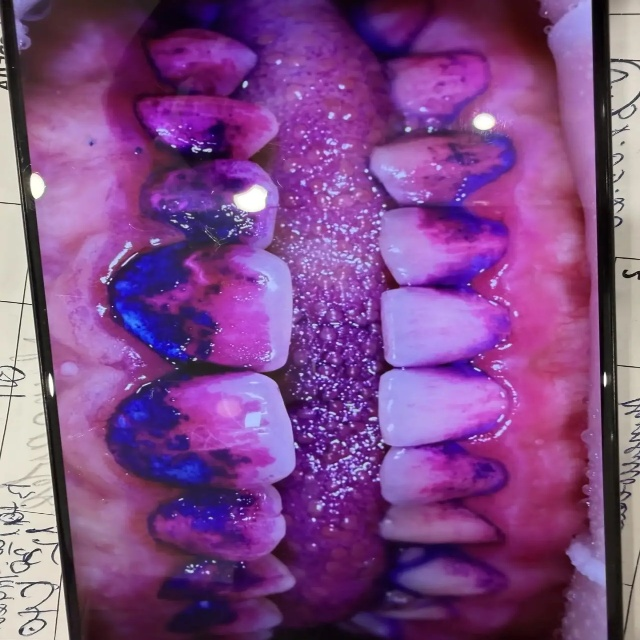clean_tooth: (0, 87, 57, 535), (0, 546, 68, 639), (612, 110, 639, 258), (617, 258, 639, 366), (622, 476, 639, 583), (610, 15, 639, 59), (611, 64, 639, 109), (625, 570, 639, 639), (618, 367, 639, 399)
plaque: (77, 0, 607, 639), (13, 0, 54, 50)
